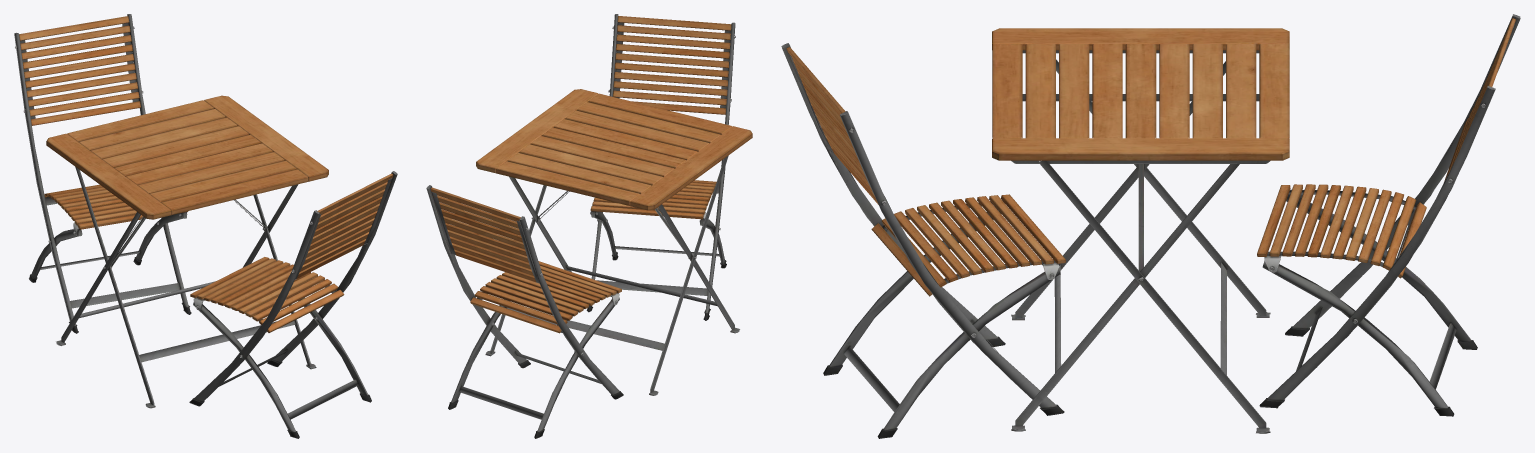
The model's file is table-chair-set.glb.
The picture shows the model from 3 angles, left to right: view 1: azimuth 30°, elevation 25°; view 2: azimuth 150°, elevation 25°; view 3: azimuth 270°, elevation 25°; orthographic projection. The views are drawn at different scales.
Visible parts, largest first — view 1: outdoor_table_chair_set_01_table, outdoor_table_chair_set_01_chair_02, outdoor_table_chair_set_01_chair_01; view 2: outdoor_table_chair_set_01_table, outdoor_table_chair_set_01_chair_02, outdoor_table_chair_set_01_chair_01; view 3: outdoor_table_chair_set_01_table, outdoor_table_chair_set_01_chair_01, outdoor_table_chair_set_01_chair_02.
Boxes of the visible parts, x1,y1,x2,y2 form: outdoor_table_chair_set_01_table: [46, 95, 328, 408]; outdoor_table_chair_set_01_chair_02: [14, 14, 191, 333]; outdoor_table_chair_set_01_chair_01: [189, 171, 397, 438]; outdoor_table_chair_set_01_table: [476, 89, 752, 395]; outdoor_table_chair_set_01_chair_02: [426, 185, 623, 438]; outdoor_table_chair_set_01_chair_01: [586, 14, 735, 320]; outdoor_table_chair_set_01_table: [992, 28, 1289, 433]; outdoor_table_chair_set_01_chair_01: [781, 43, 1065, 438]; outdoor_table_chair_set_01_chair_02: [1257, 14, 1520, 416].
Bounding box in the file's own units: 0.742 × 0.8586 × 1.72.
2 materials, 2 textured.
